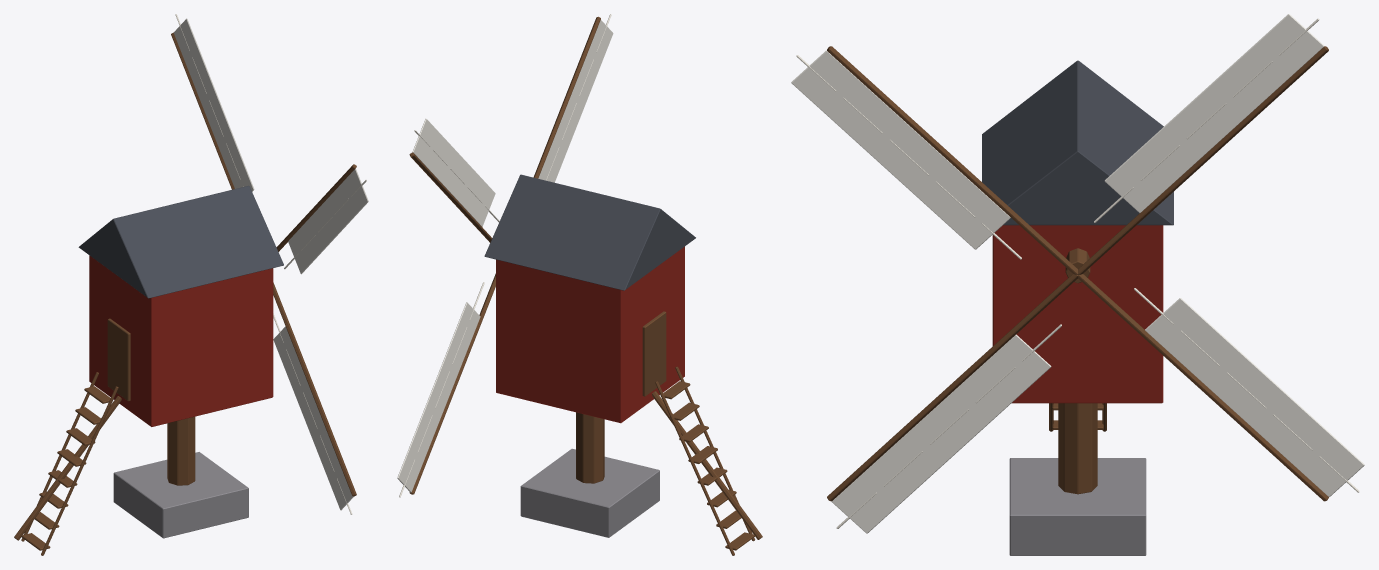
Rendered from vaderkvarn.glb.
The picture shows the model from 3 angles, left to right: view 1: azimuth 30°, elevation 25°; view 2: azimuth 150°, elevation 25°; view 3: azimuth 270°, elevation 25°; orthographic projection. The views are drawn at different scales.
Parts seen in each view (by area): view 1: vaderkvarn; view 2: vaderkvarn; view 3: vaderkvarn.
Boxes of the visible parts, <box> form: vaderkvarn: <box>14,14,368,555</box>; vaderkvarn: <box>397,14,762,555</box>; vaderkvarn: <box>791,14,1364,555</box>.
Bounding box in the file's own units: 7 × 11.11 × 10.09.
